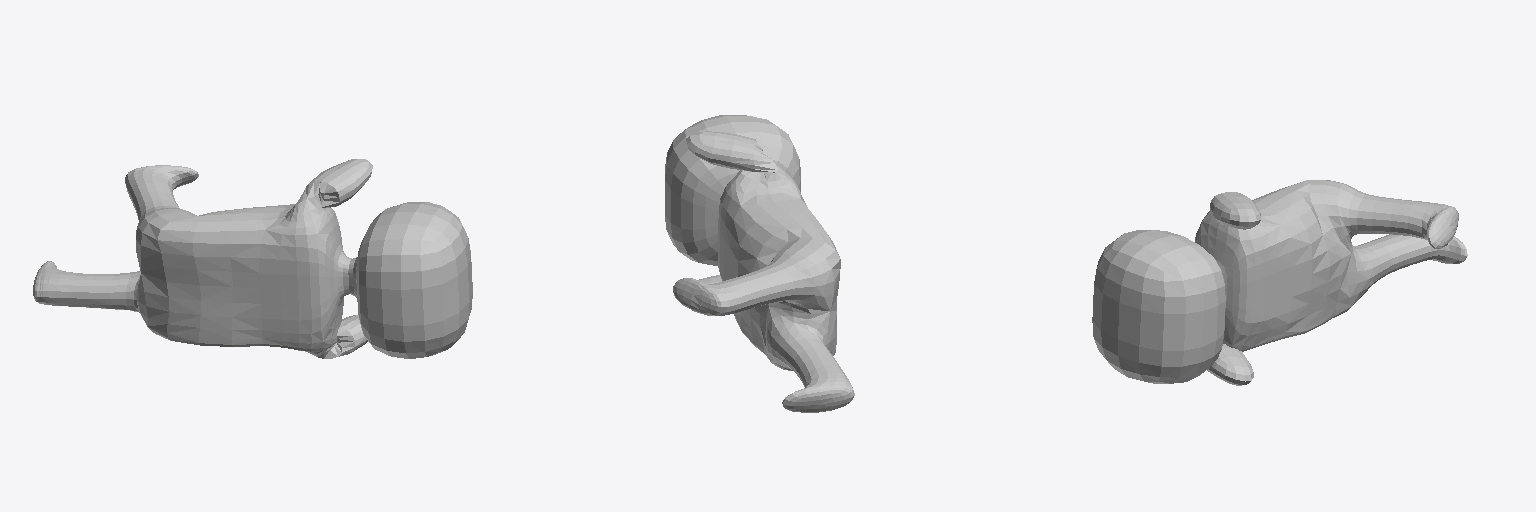
The model's file is antman_push_11.obj.
The picture shows the model from 3 angles: view 1: azimuth 30°, elevation 25°; view 2: azimuth 150°, elevation 25°; view 3: azimuth 270°, elevation 25°; orthographic projection.
Parts seen in each view (by area): view 1: Cube; view 2: Cube; view 3: Cube.
Boxes of the visible parts, box(x1,y1,x2,y2) form: Cube: box(33, 159, 472, 358); Cube: box(665, 115, 854, 412); Cube: box(1092, 180, 1467, 385).
Size of the model in its own units: 1.52 by 0.8339 by 1.6.